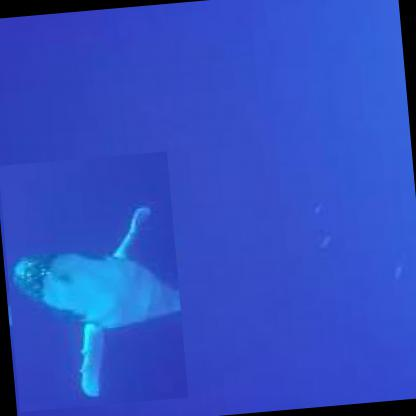blue_whale: (0, 149, 189, 412)
